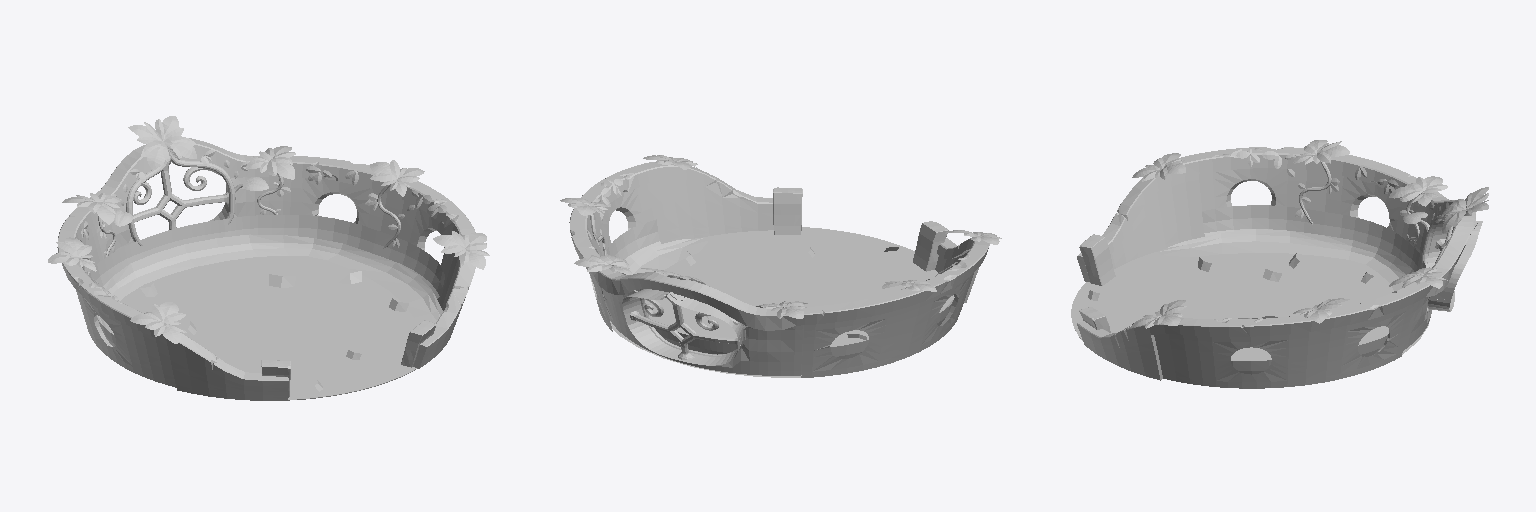
File: Grass Hut Inside.obj
The picture shows the model from 3 angles: view 1: azimuth 30°, elevation 25°; view 2: azimuth 150°, elevation 25°; view 3: azimuth 270°, elevation 25°; orthographic projection.
Visible parts, largest first — view 1: ground_mdl_ground_mdl.020, wall_mdl_wall_mdl.017, wall_grass_mdl_wall_grass_mdl.001, ground_grass_edge_mdl_ground_grass_edge_mdl.003, window_mdl_window_mdl.003, wall_pillar_mdl_wall_pillar_mdl.001, ground_grass1_mdl_ground_grass1_mdl.003; view 2: wall_mdl_wall_mdl.017, ground_mdl_ground_mdl.020, window_mdl_window_mdl.003, wall_grass_mdl_wall_grass_mdl.001, ground_grass_edge_mdl_ground_grass_edge_mdl.003, wall_pillar_mdl_wall_pillar_mdl.001; view 3: wall_mdl_wall_mdl.017, ground_mdl_ground_mdl.020, wall_grass_mdl_wall_grass_mdl.001, ground_grass_edge_mdl_ground_grass_edge_mdl.003, window_mdl_window_mdl.003, wall_pillar_mdl_wall_pillar_mdl.001.
Part boxes in pixels (bbox=[...]): ground_mdl_ground_mdl.020: bbox=[100, 234, 442, 400]; wall_mdl_wall_mdl.017: bbox=[57, 138, 475, 400]; wall_grass_mdl_wall_grass_mdl.001: bbox=[48, 116, 489, 343]; ground_grass_edge_mdl_ground_grass_edge_mdl.003: bbox=[88, 215, 444, 346]; window_mdl_window_mdl.003: bbox=[126, 152, 235, 245]; wall_pillar_mdl_wall_pillar_mdl.001: bbox=[261, 320, 436, 397]; ground_grass1_mdl_ground_grass1_mdl.003: bbox=[140, 271, 408, 390]; wall_mdl_wall_mdl.017: bbox=[569, 162, 989, 377]; ground_mdl_ground_mdl.020: bbox=[612, 227, 954, 377]; window_mdl_window_mdl.003: bbox=[622, 289, 745, 365]; wall_grass_mdl_wall_grass_mdl.001: bbox=[560, 155, 1001, 329]; ground_grass_edge_mdl_ground_grass_edge_mdl.003: bbox=[607, 219, 953, 358]; wall_pillar_mdl_wall_pillar_mdl.001: bbox=[773, 187, 948, 271]; wall_mdl_wall_mdl.017: bbox=[1077, 147, 1475, 388]; ground_mdl_ground_mdl.020: bbox=[1071, 229, 1420, 360]; wall_grass_mdl_wall_grass_mdl.001: bbox=[1132, 140, 1488, 328]; ground_grass_edge_mdl_ground_grass_edge_mdl.003: bbox=[1202, 205, 1425, 374]; window_mdl_window_mdl.003: bbox=[1422, 215, 1482, 312]; wall_pillar_mdl_wall_pillar_mdl.001: bbox=[1079, 234, 1115, 332].
Size of the model in its own units: 7.82 by 2.35 by 7.51.